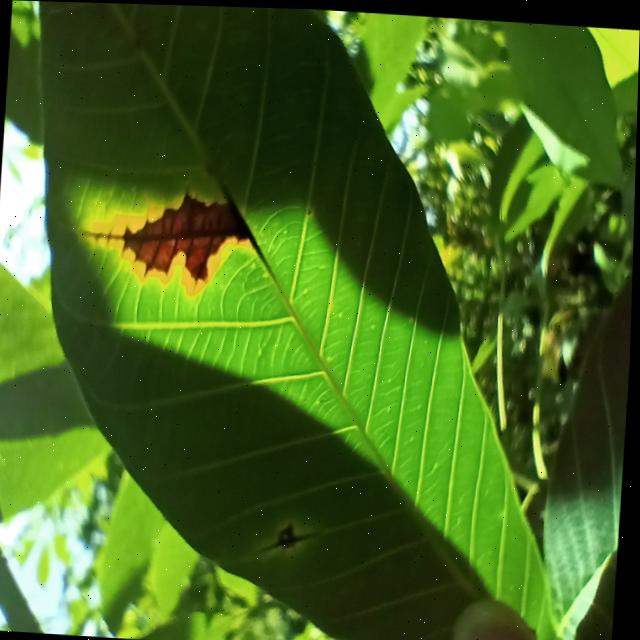Corynespora: (219, 180, 264, 252), (258, 517, 320, 558), (77, 222, 130, 255)
Leaf-Blight: (123, 190, 234, 280)
